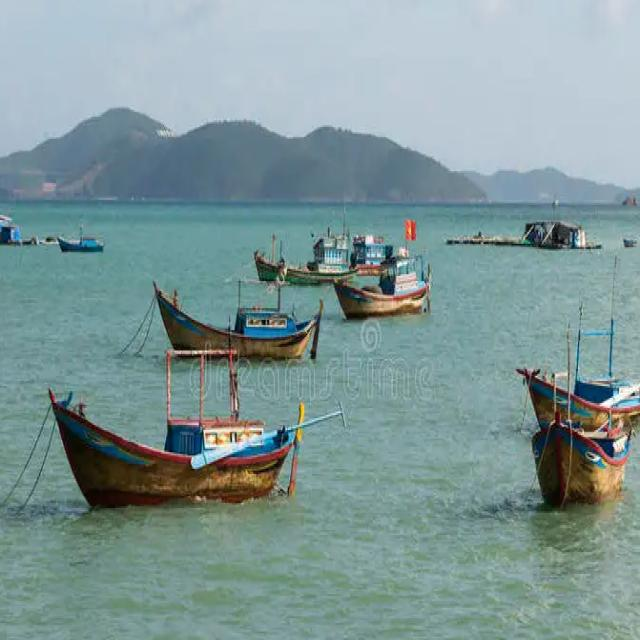fishing boat: (52, 344, 308, 510), (150, 262, 322, 363), (517, 309, 640, 420), (529, 404, 632, 503), (335, 252, 428, 322), (258, 228, 348, 287), (348, 227, 399, 280), (56, 214, 104, 252)
